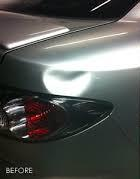dent: (36, 62, 99, 103)
